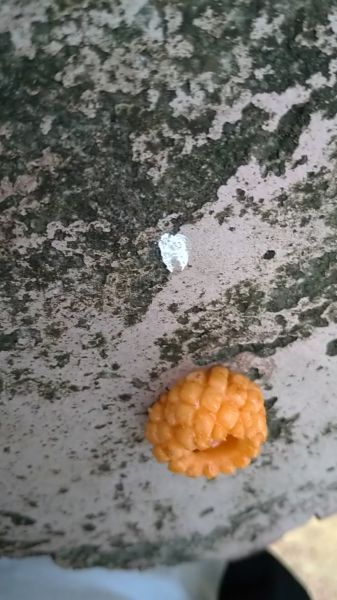eggs: (140, 358, 276, 484)
